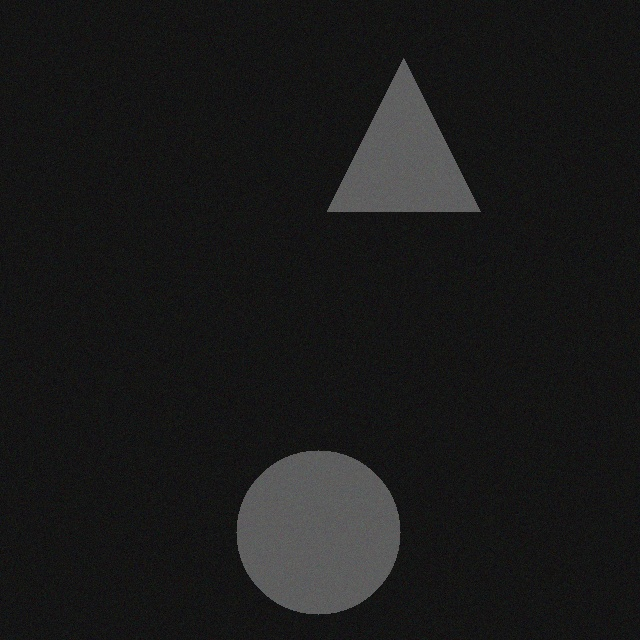circle: (239, 442, 403, 606)
triangle: (330, 50, 483, 203)
